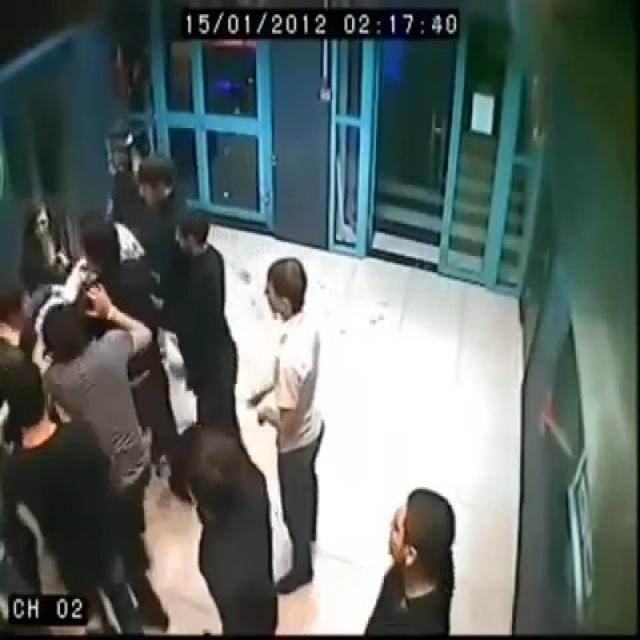fight: (42, 153, 195, 420)
